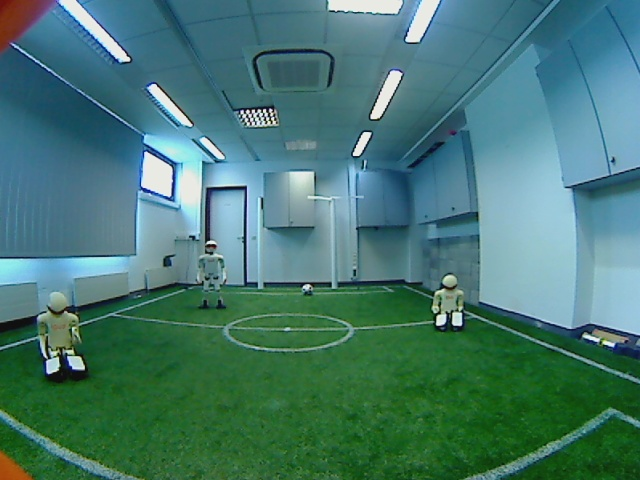ball: (295, 280, 317, 300)
robot: (33, 291, 88, 385), (195, 240, 231, 315), (430, 272, 468, 333)
